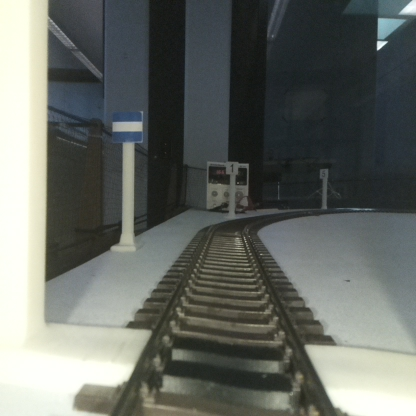white-info-1: (225, 161, 238, 217)
